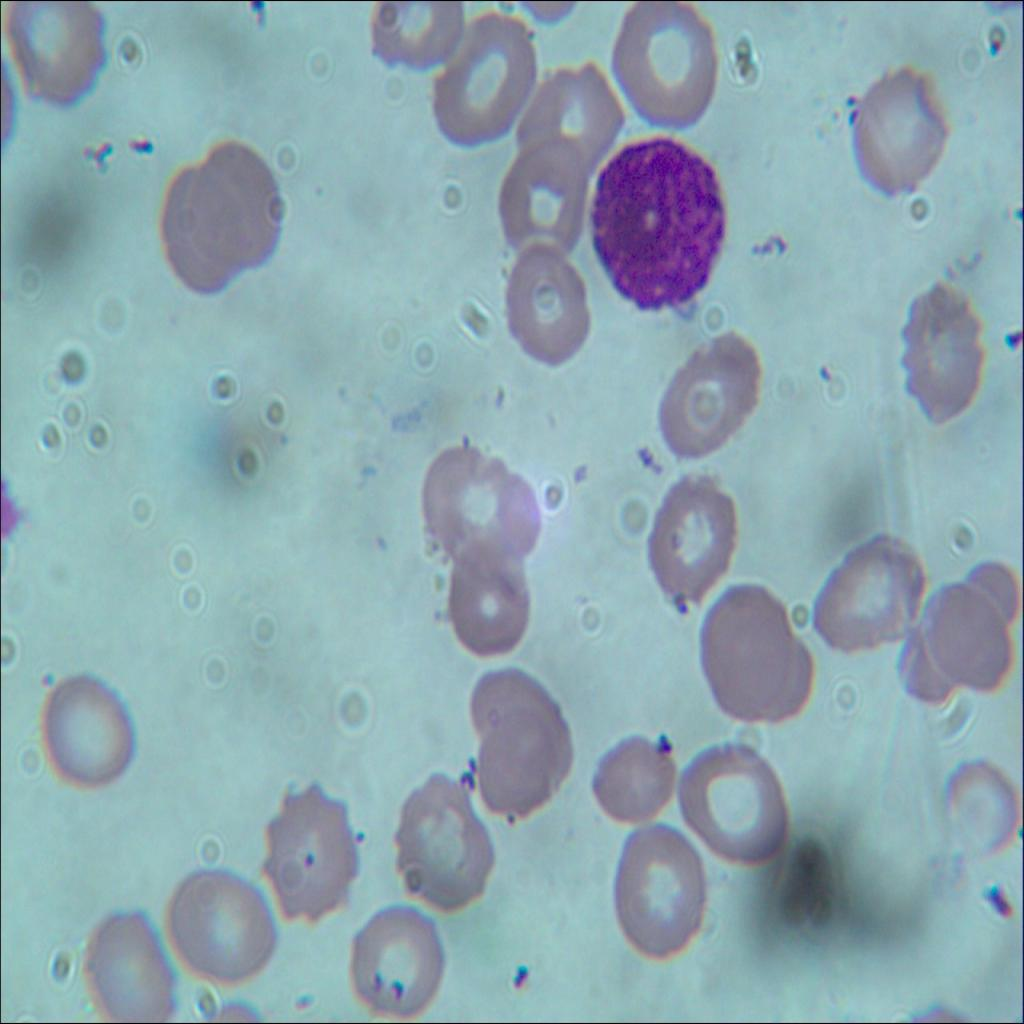Eritrosit: (388, 772, 499, 915), (648, 324, 766, 458), (609, 0, 723, 138), (424, 435, 539, 569), (683, 730, 786, 874), (701, 574, 799, 722), (813, 525, 924, 655), (642, 468, 742, 610), (0, 0, 118, 117), (846, 61, 948, 194), (264, 784, 358, 925), (615, 821, 708, 962), (171, 868, 279, 985), (901, 282, 989, 424), (428, 24, 536, 138), (346, 903, 448, 1023), (506, 234, 594, 371), (79, 904, 178, 1023), (151, 164, 241, 290), (194, 140, 284, 266), (38, 668, 135, 784), (499, 138, 588, 261), (511, 68, 626, 161), (923, 577, 1011, 698), (440, 552, 534, 660), (469, 668, 573, 764), (474, 725, 572, 818), (944, 758, 1023, 868), (590, 735, 680, 828), (368, 0, 468, 79), (895, 619, 969, 702), (959, 552, 1023, 641)
Limfoblast: (588, 131, 728, 314)
Platelet: (349, 817, 375, 852), (296, 847, 318, 875)
